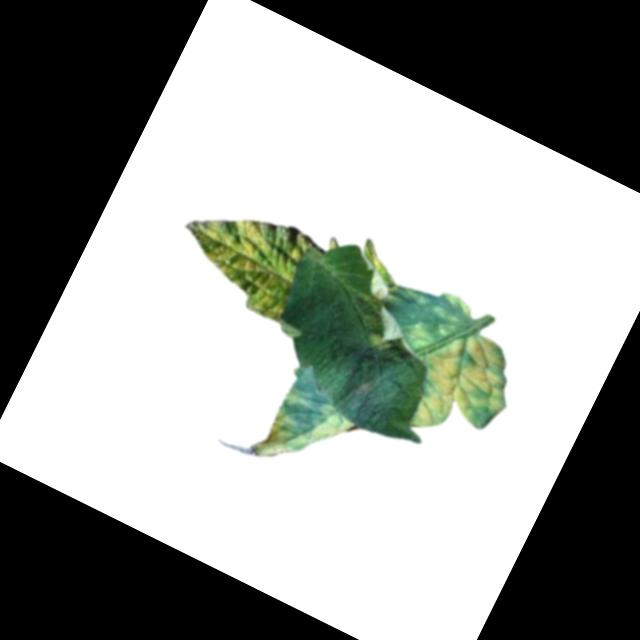Leaf_Mold: (160, 182, 318, 327), (397, 320, 530, 461), (253, 385, 360, 492), (397, 315, 435, 353), (360, 328, 397, 363)
